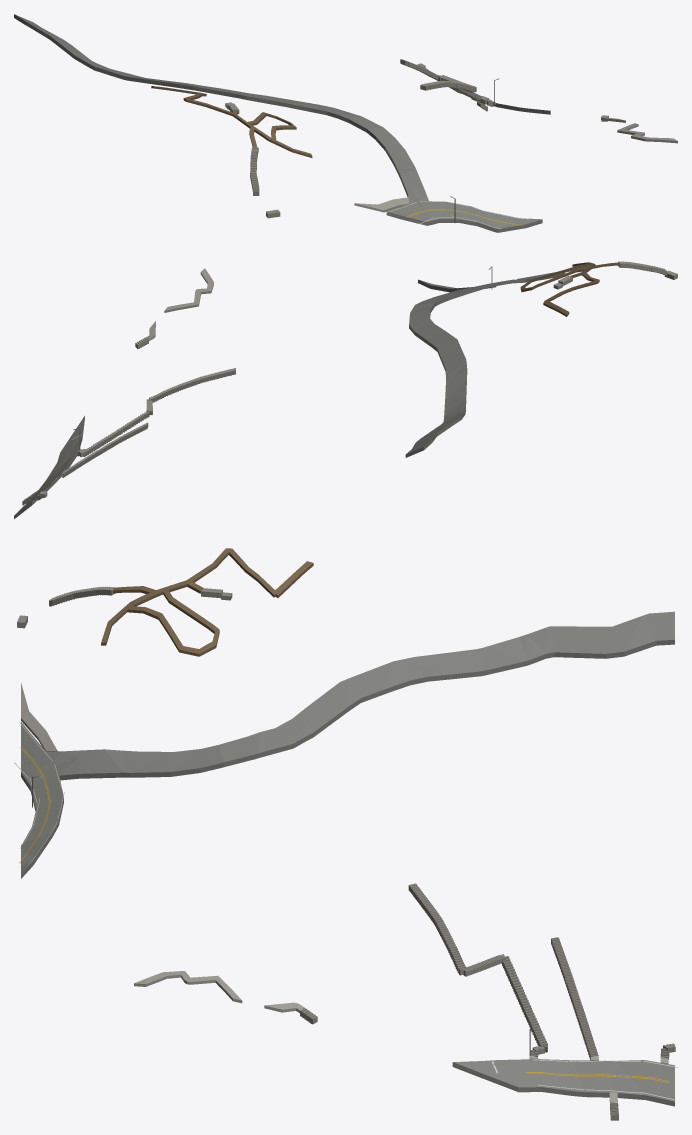
The picture shows the model from 3 angles, top to bottom: view 1: azimuth 30°, elevation 25°; view 2: azimuth 150°, elevation 25°; view 3: azimuth 270°, elevation 25°; orthographic projection. The views are drawn at different scales.
Size of the model in its own units: 148 by 72.45 by 148.
